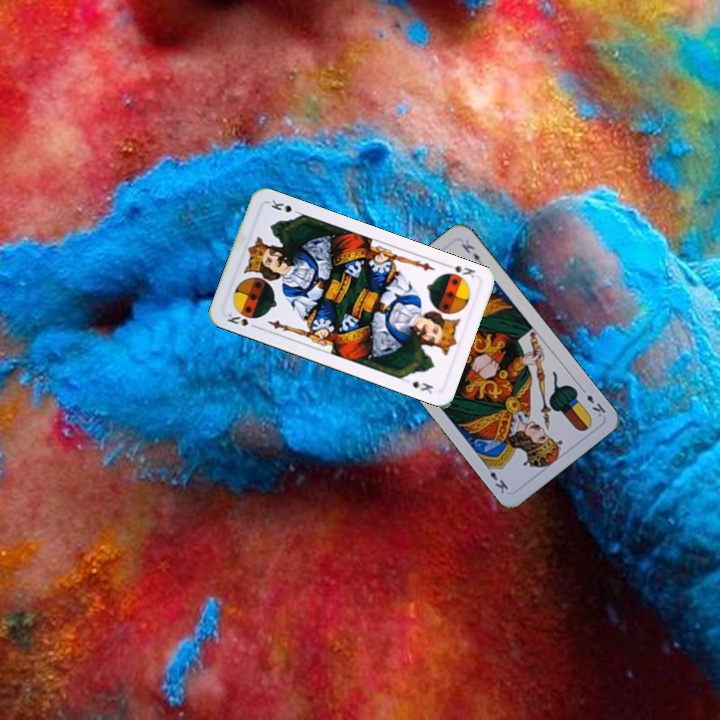EK: (576, 383, 609, 420)
SK: (223, 309, 261, 331), (441, 260, 478, 281)
